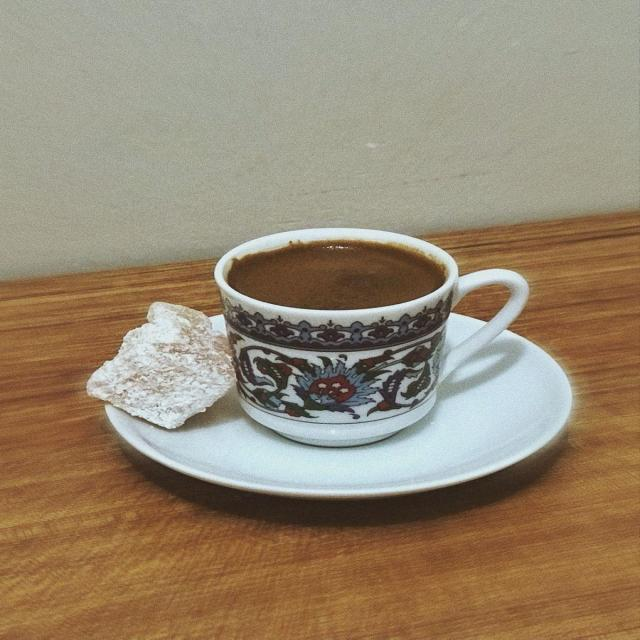cup-handle: (211, 226, 530, 448)
